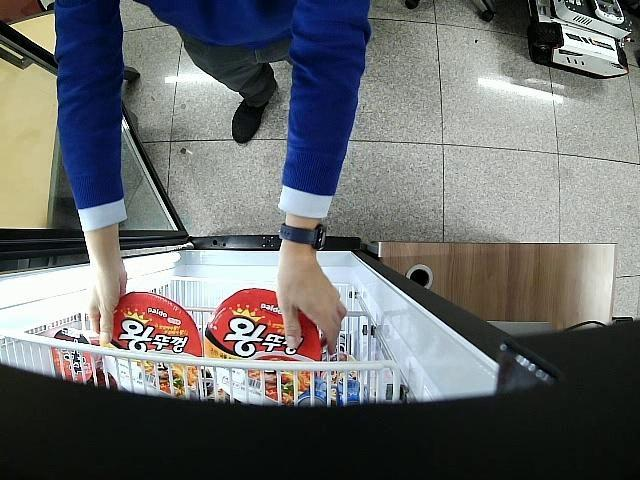10_wangTtukkeong: (203, 288, 321, 404), (104, 292, 202, 399)
